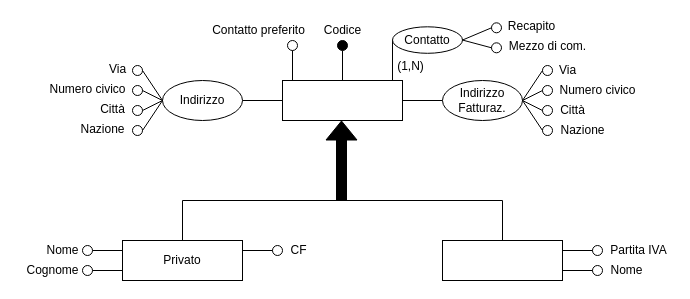
This 690x299 diagram has some shape labels left out. The shapes that lost their labels are listed below. From the top down, each one's centre as x and y in pixels, then its label:
[342,100]: Cliente
[502,260]: Rivendita
